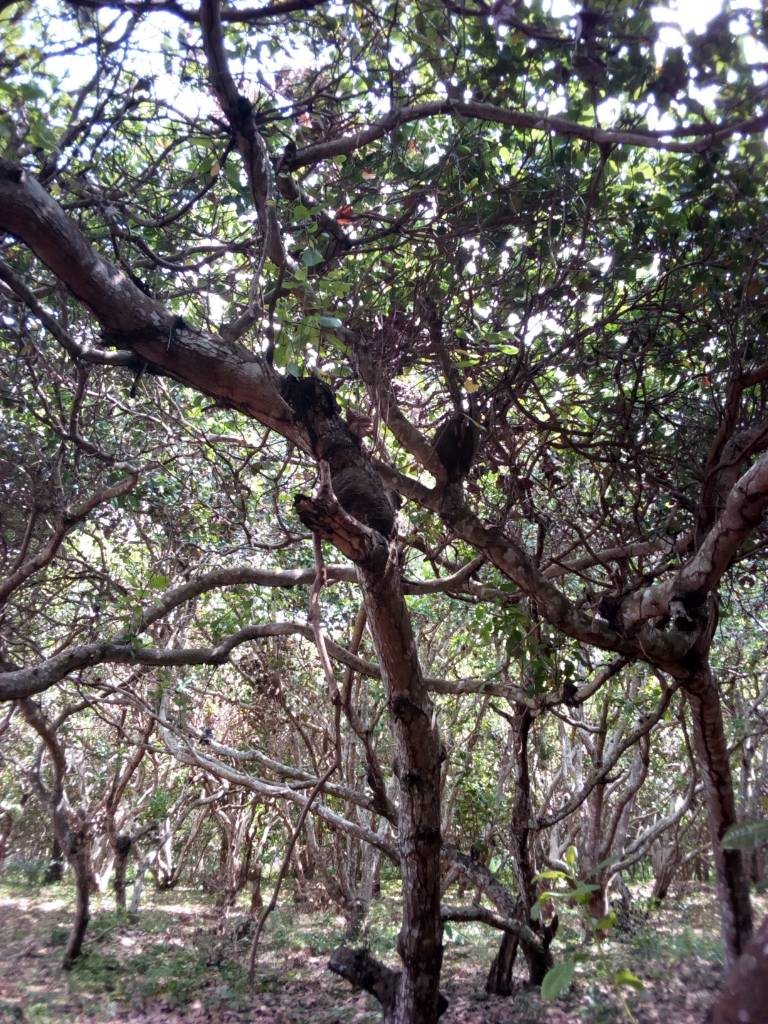Termites: (390, 602, 450, 939), (286, 366, 394, 528), (435, 414, 482, 499)
